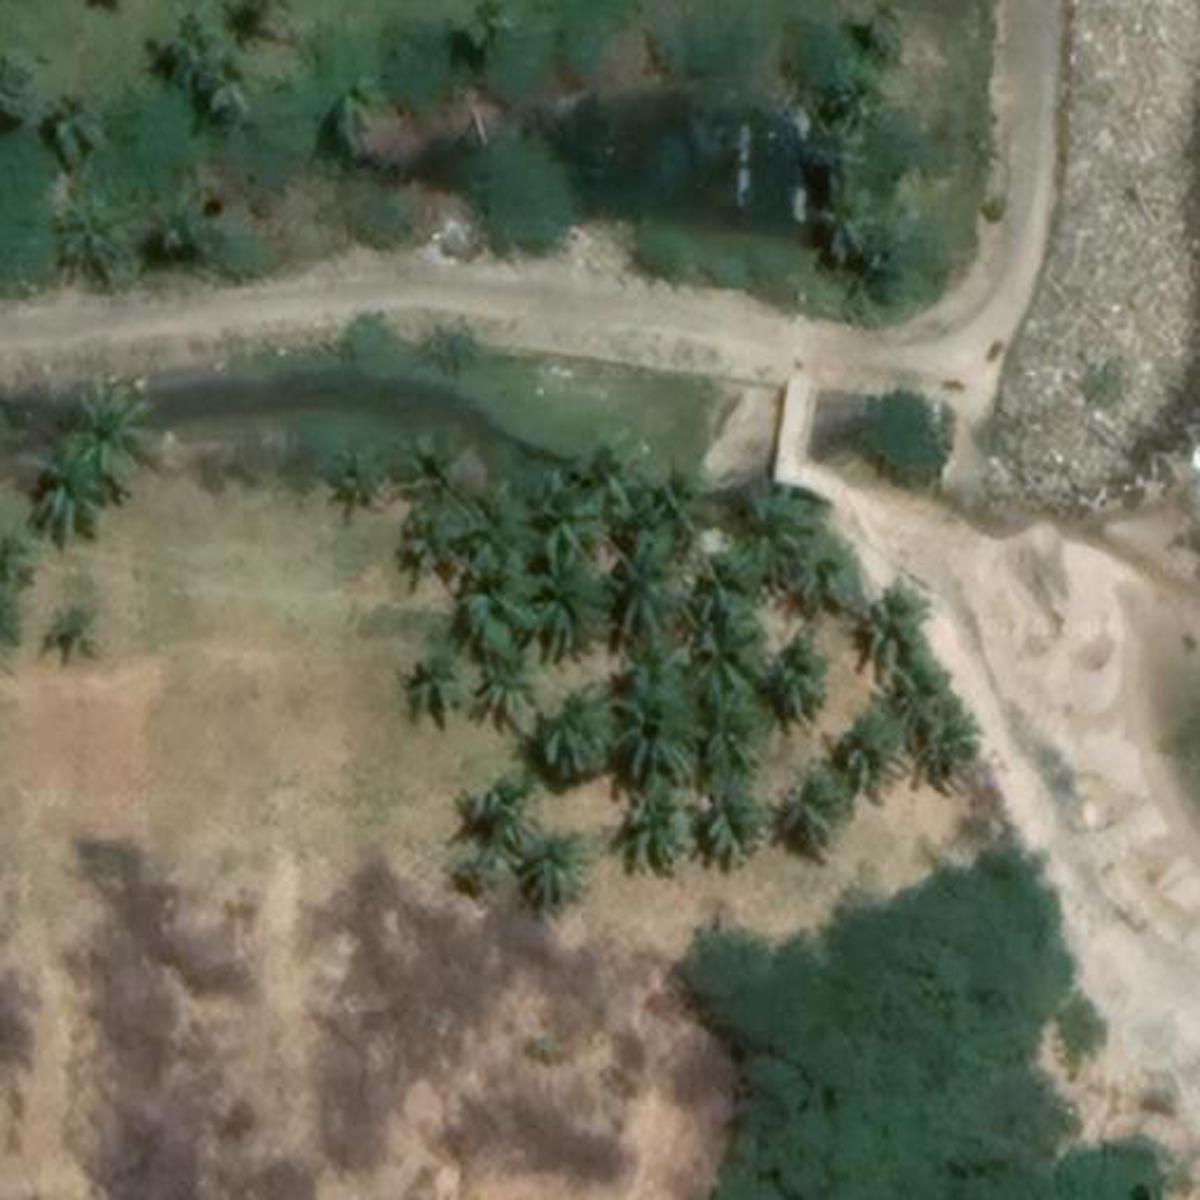coconut: (25, 440, 135, 549), (454, 546, 557, 656), (597, 534, 693, 651), (513, 466, 616, 557), (888, 691, 993, 780), (525, 679, 632, 766), (693, 787, 795, 878), (625, 707, 721, 801), (846, 585, 935, 686), (782, 529, 869, 632), (677, 604, 773, 698), (684, 529, 768, 632), (810, 180, 897, 278), (733, 475, 822, 569), (816, 721, 904, 813), (407, 431, 501, 515), (77, 377, 166, 464), (515, 827, 602, 914), (771, 764, 855, 853), (618, 796, 707, 878), (630, 462, 724, 538), (700, 693, 778, 785), (56, 199, 135, 278), (762, 632, 829, 719), (35, 600, 107, 675), (471, 789, 546, 860), (393, 653, 475, 714), (478, 642, 548, 712), (321, 445, 379, 527), (825, 75, 888, 140), (201, 56, 262, 116)
